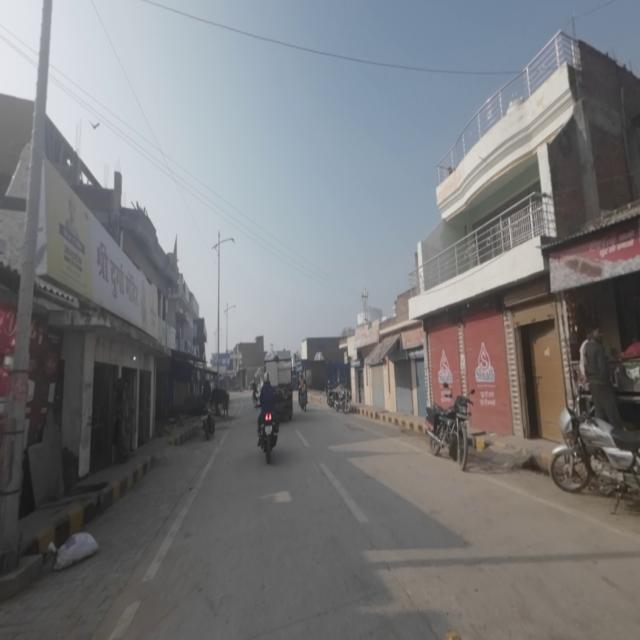Garbage: (50, 529, 101, 570)
